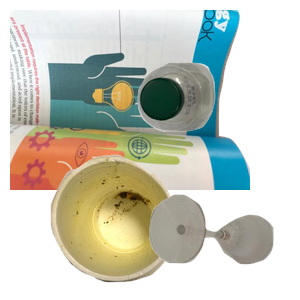glass: (147, 192, 300, 300)
paper: (10, 10, 250, 190)
plastic: (135, 60, 300, 184)
trash: (48, 152, 219, 300)
